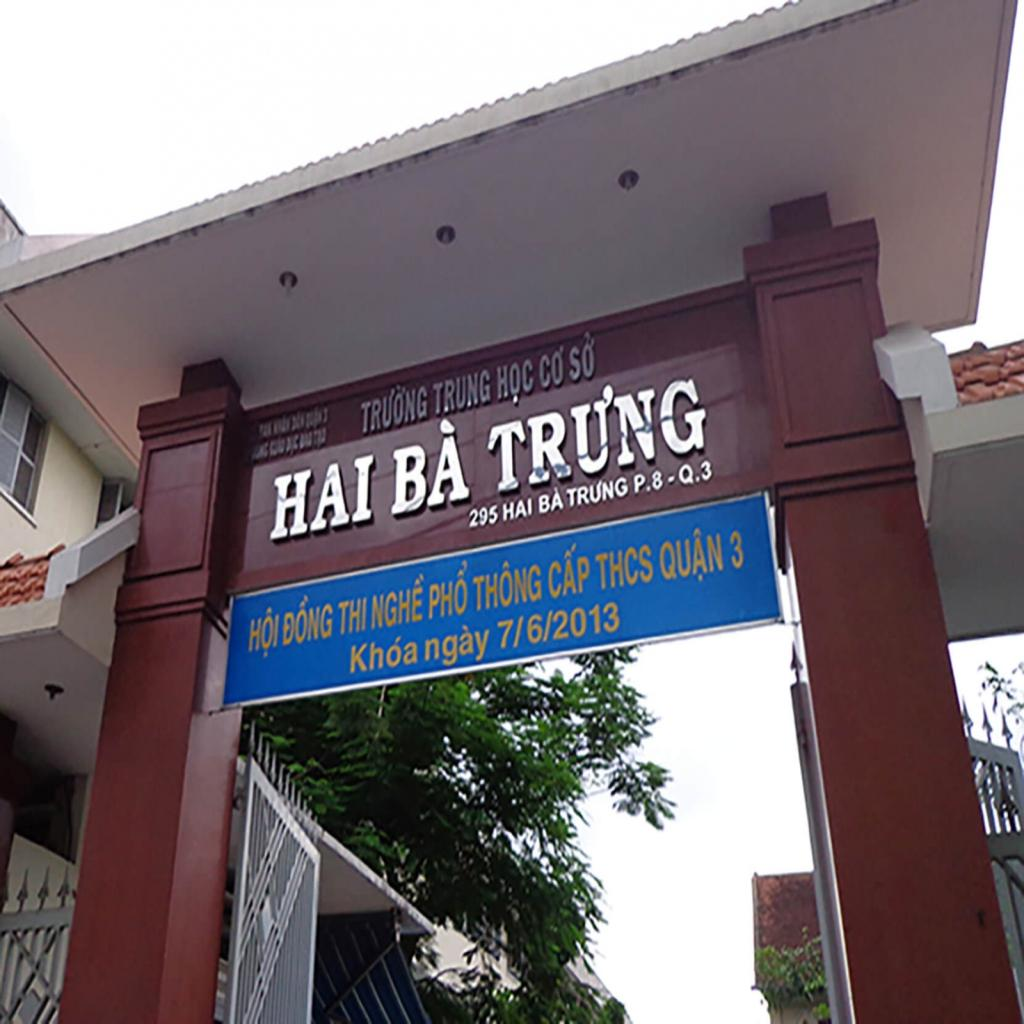text: (485, 359, 711, 501), (266, 446, 379, 548), (388, 413, 474, 525), (470, 548, 544, 616), (656, 520, 726, 589), (358, 376, 430, 441), (421, 620, 492, 675), (593, 538, 656, 596), (280, 589, 338, 649), (370, 570, 425, 632), (347, 630, 419, 676), (432, 367, 493, 420), (544, 540, 590, 605), (427, 558, 470, 623), (565, 470, 631, 510), (494, 354, 536, 415), (245, 603, 284, 663), (568, 328, 598, 389), (335, 594, 369, 641), (538, 340, 567, 395), (676, 456, 715, 493), (632, 467, 666, 500), (466, 501, 500, 532), (537, 486, 568, 518), (501, 495, 534, 525), (728, 526, 747, 572), (304, 404, 324, 434), (320, 405, 330, 428), (665, 472, 677, 488)
